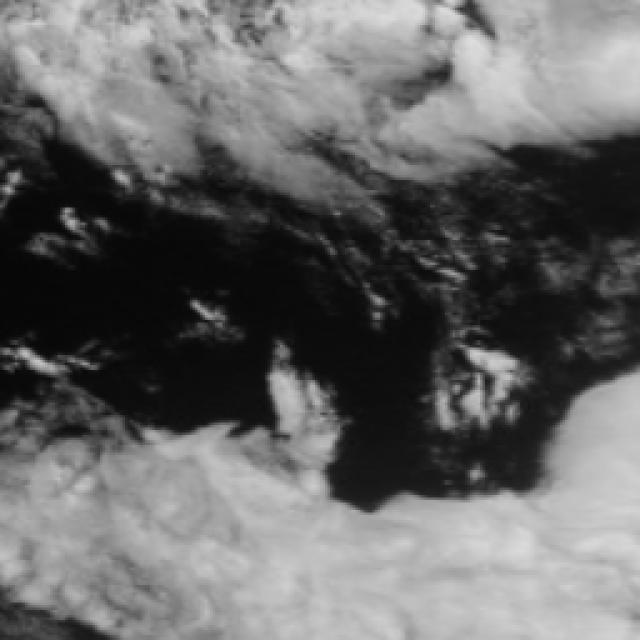CB: (355, 517, 640, 640), (132, 508, 347, 640), (29, 501, 254, 608), (510, 0, 639, 123), (580, 403, 640, 535)
